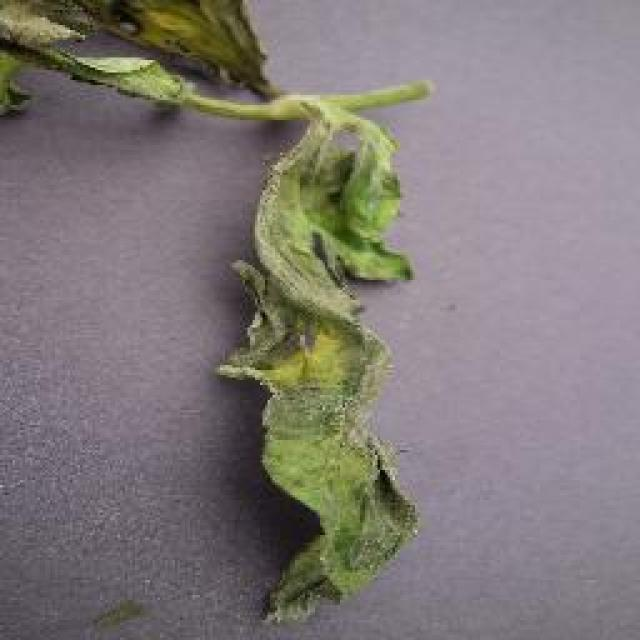Tomato Late Blight: (220, 128, 417, 618)
